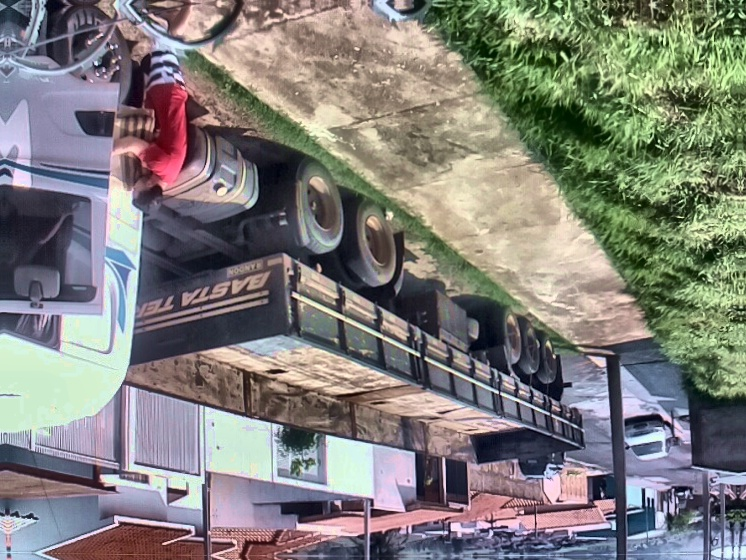person: (109, 0, 192, 216)
